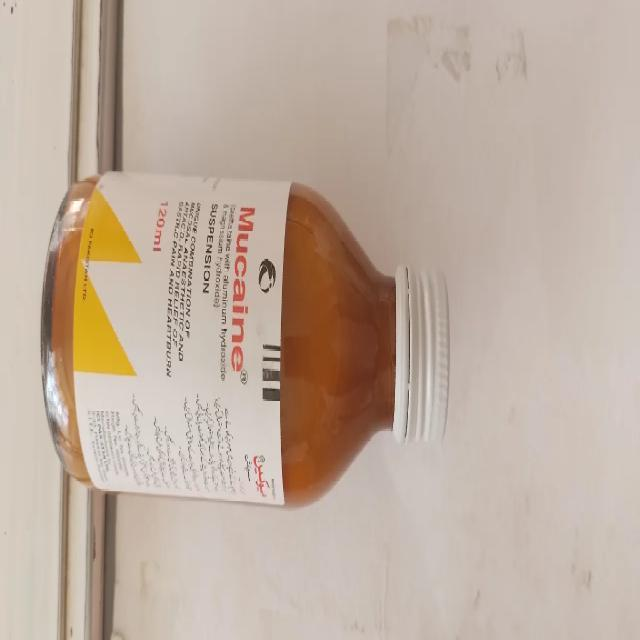drug-name: (227, 203, 258, 374)
